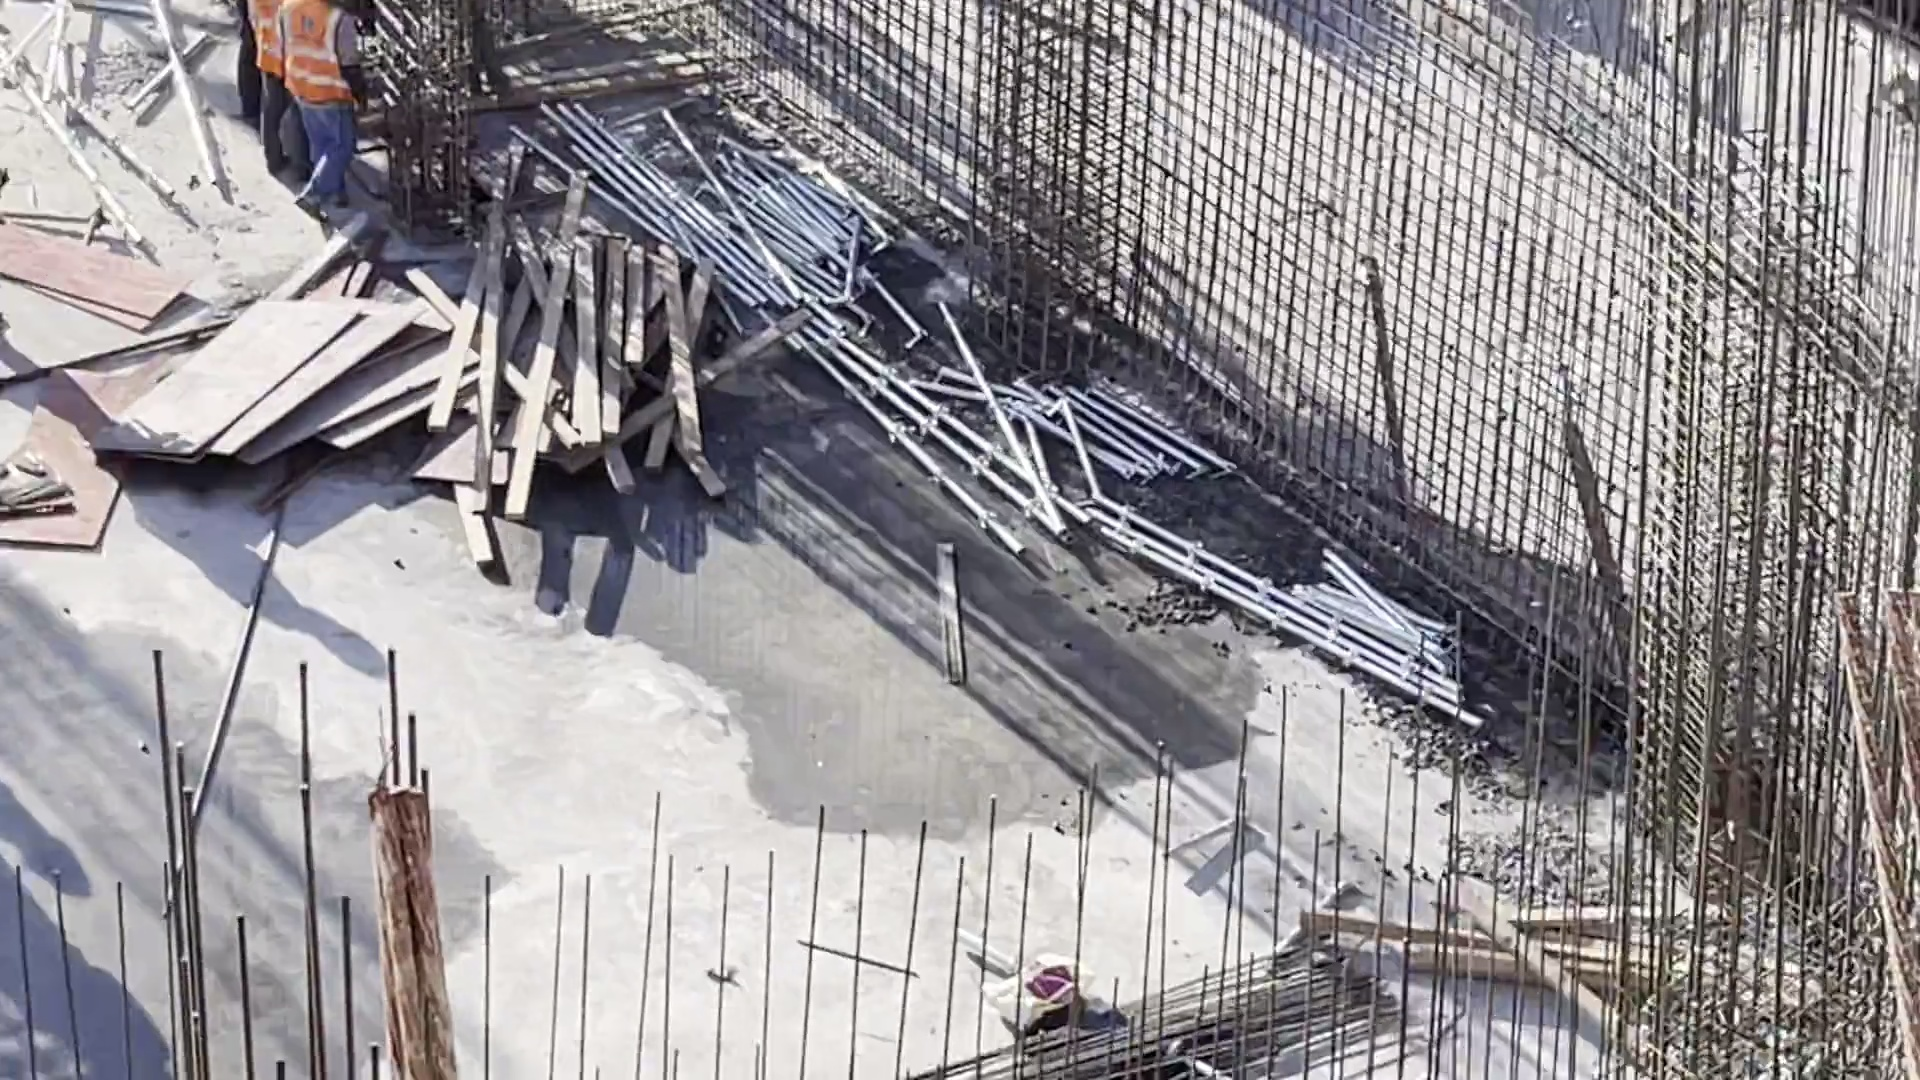board: (8, 220, 479, 559)
person: (272, 1, 362, 235), (236, 1, 296, 178)
wood: (445, 185, 752, 546)
